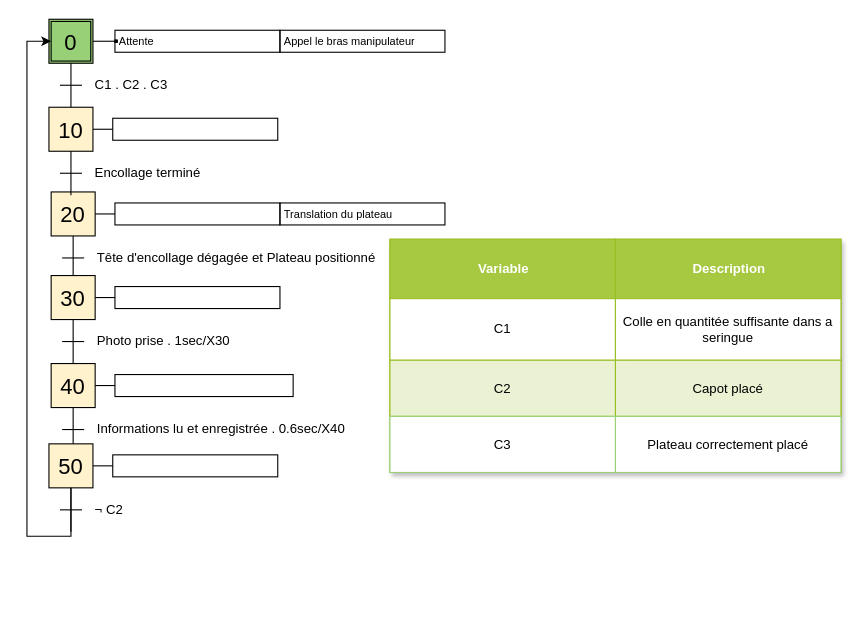
Image size: 867x636. Some labels were removed from this diagram. Each missing label, with the centre of its shape:
"Appeler le bras manipulateur" belongs at (195,465).
"Dégager la tête de l'encollage" belongs at (197,213).
"Encoller le capot" belongs at (195,128).
"Lecture/Ecriture sur le badge RFID" belongs at (203,385).
"Prendre le capot en photo" belongs at (197,297).
